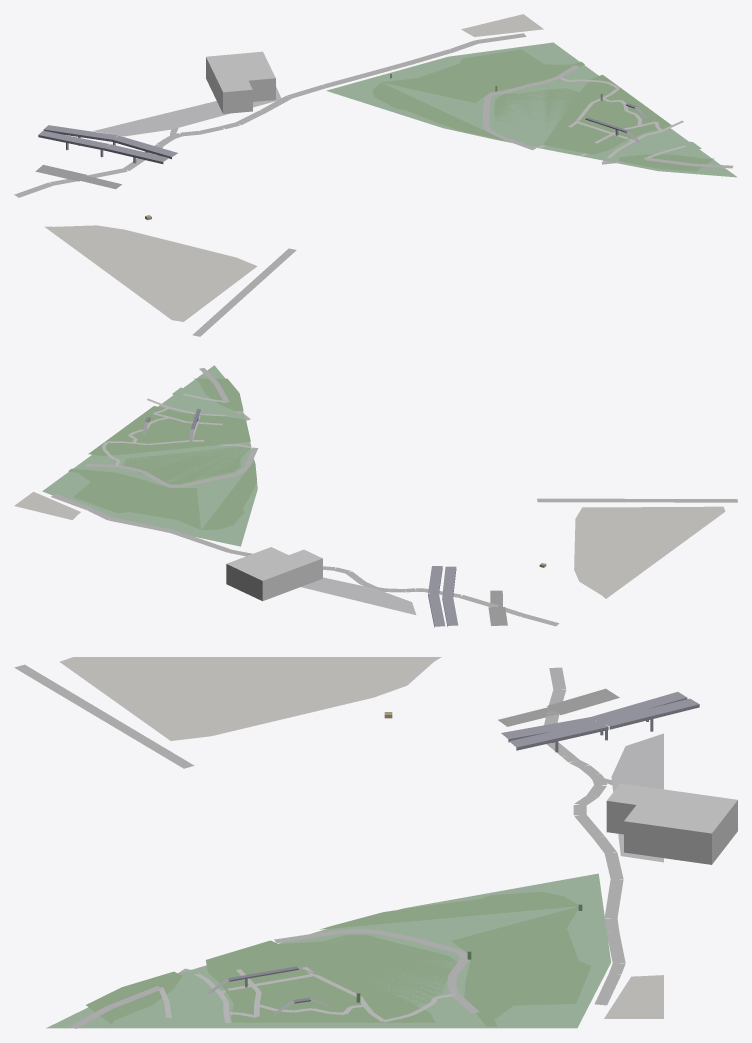
3 views of the same model, one above another, from view 1: azimuth 30°, elevation 25°; view 2: azimuth 150°, elevation 25°; view 3: azimuth 270°, elevation 25° (orthographic). The views are drawn at different scales.
Size of the model in its own units: 508 by 28.85 by 391.
